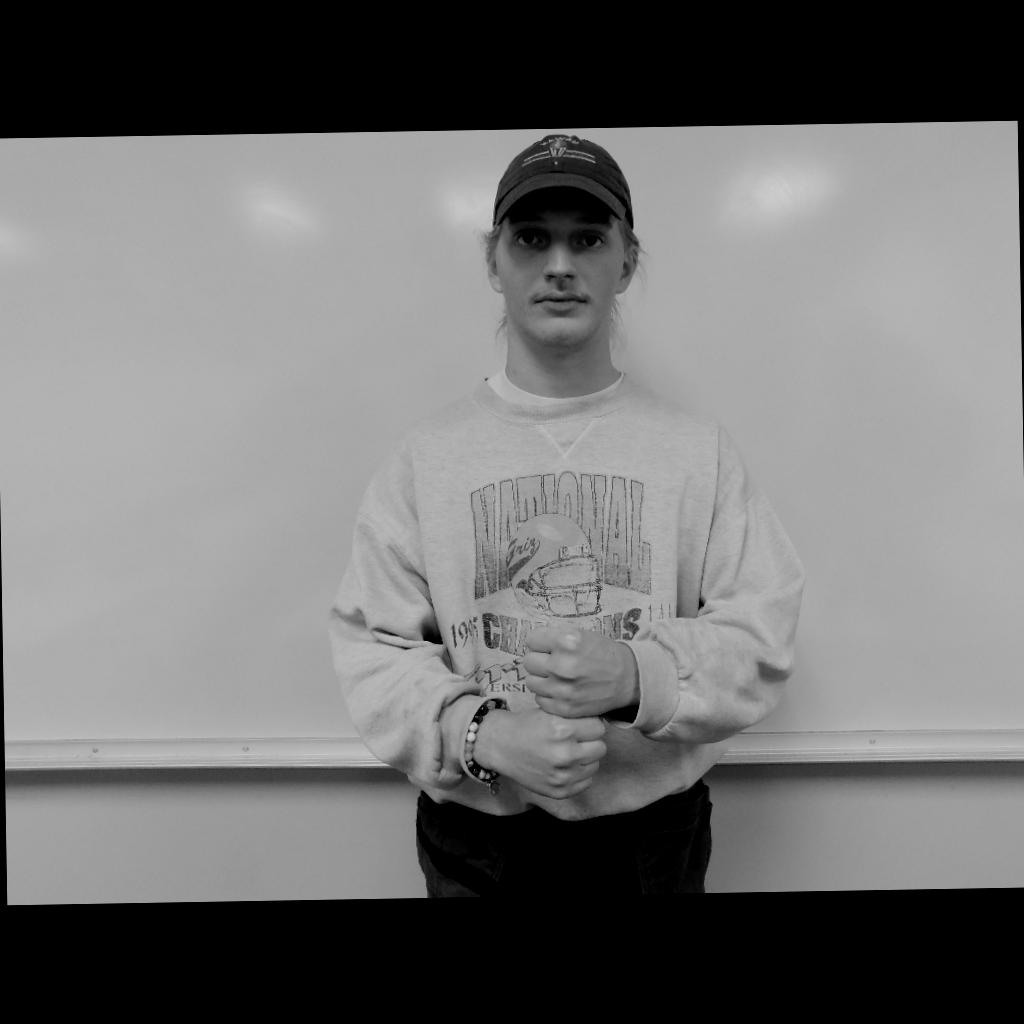get: (522, 623, 618, 799)
